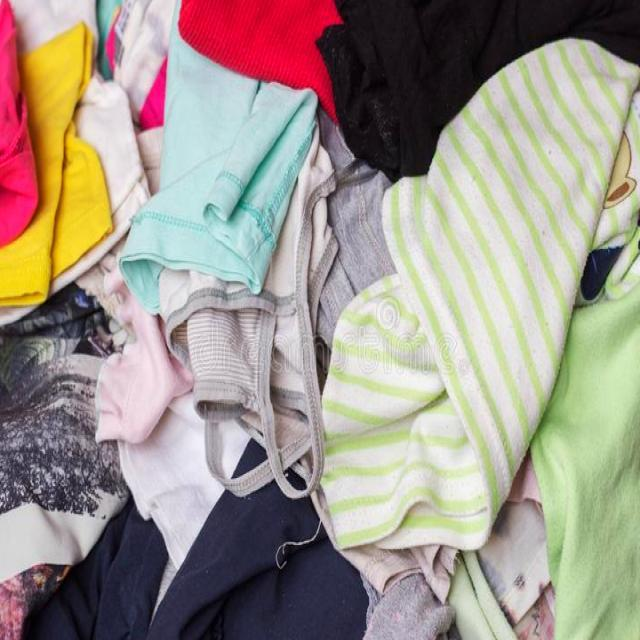clothes: (18, 4, 632, 616)
